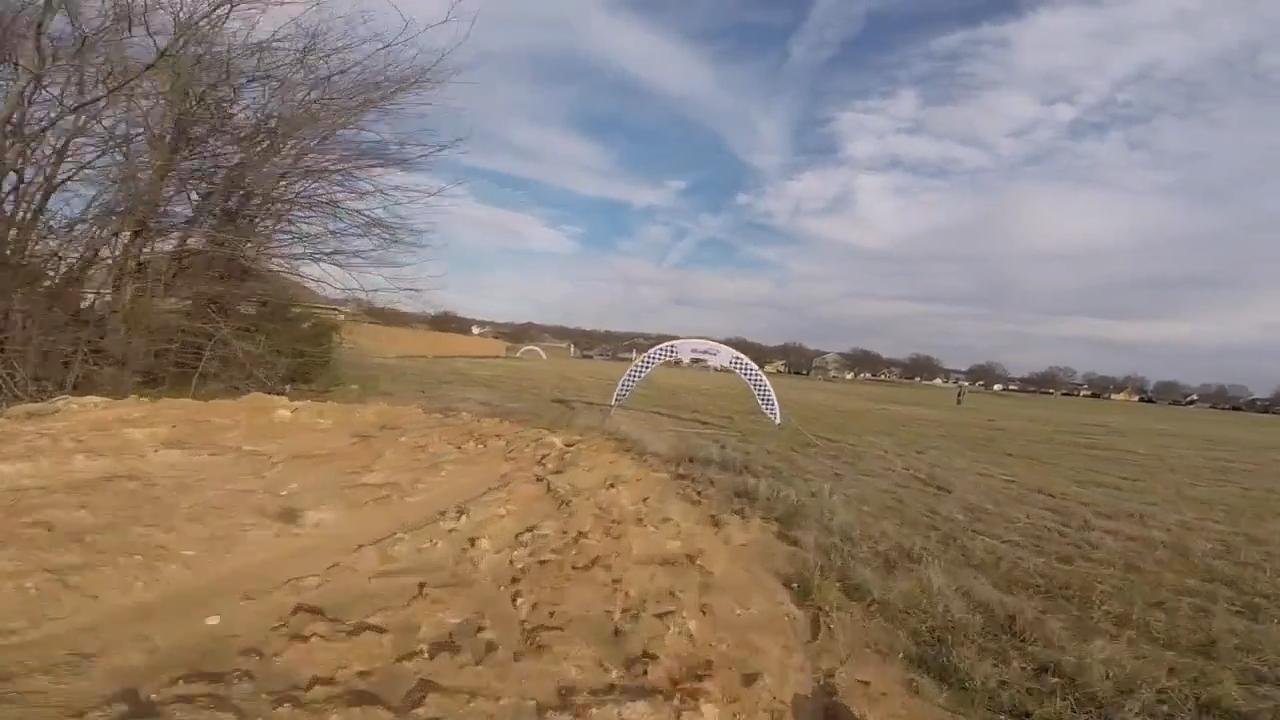gate: (613, 339, 783, 431)
